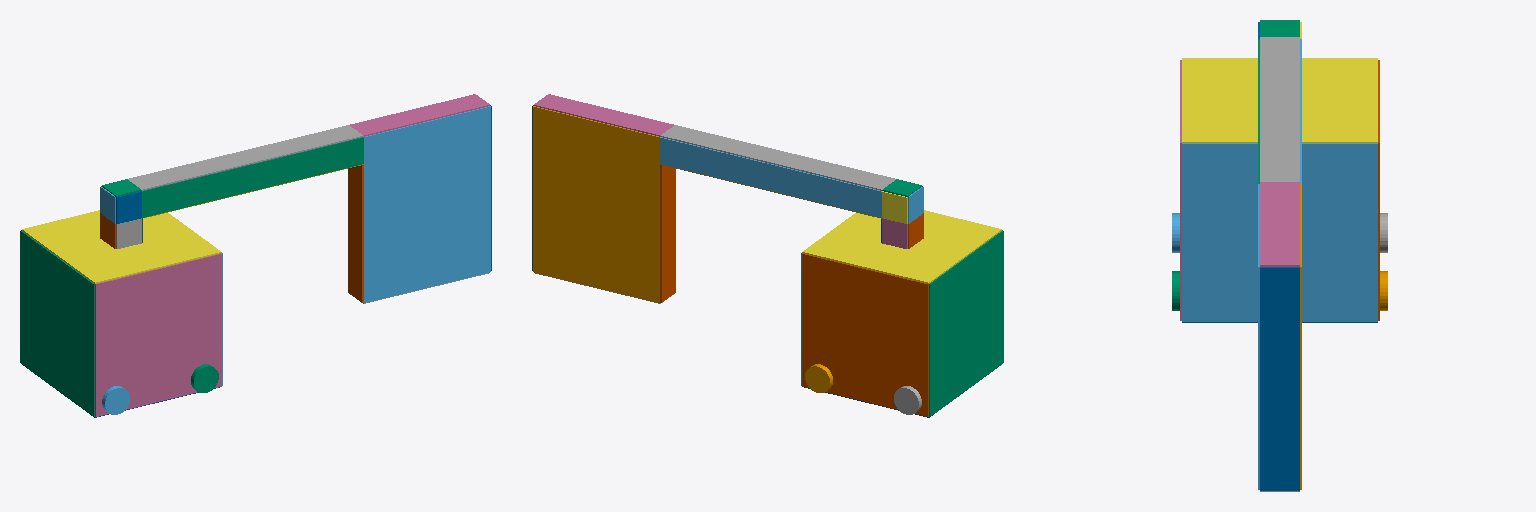
--- Render facts (derived) ---
3 views of the same robot in one strip: view 1: azimuth 30°, elevation 25°; view 2: azimuth 150°, elevation 25°; view 3: azimuth 270°, elevation 25° (orthographic).
Model robot with 56 links and 55 joints (2 continuous, 53 fixed), rooted at body, posed every joint at zero.
Visible links, largest first — view 1: hand_sensor_0_right, body_sensor_0_right, body_sensor_0_stop, body_sensor_0_top, arm_sensor_0_right, arm_sensor_0_top, hand_sensor_0_stop, hand_sensor_0_top, joint_2_sensor_0_right, joint_1_sensor_0_right, back_right_wheel, from_right_wheel; view 2: hand_sensor_0_left, body_sensor_0_left, body_sensor_0_stop, body_sensor_0_top, arm_sensor_0_left, arm_sensor_0_top, hand_sensor_0_stop, hand_sensor_0_top, joint_2_sensor_0_left, joint_1_sensor_0_left, back_left_wheel, from_left_wheel; view 3: body_sensor_0_start, body_sensor_0_top, hand_sensor_0_start, arm_sensor_0_top, hand_sensor_0_top, joint_2_sensor_0_top, hand_sensor_0_left, hand_sensor_0_right.
Boxes of the visible links, <box> form: hand_sensor_0_right: <box>364,106,490,302</box>; body_sensor_0_right: <box>95,253,221,416</box>; body_sensor_0_stop: <box>20,231,94,416</box>; body_sensor_0_top: <box>22,210,221,283</box>; arm_sensor_0_right: <box>142,137,363,217</box>; arm_sensor_0_top: <box>128,125,363,190</box>; hand_sensor_0_stop: <box>348,165,363,302</box>; hand_sensor_0_top: <box>350,94,489,136</box>; joint_2_sensor_0_right: <box>116,191,141,223</box>; joint_1_sensor_0_right: <box>116,218,141,248</box>; back_right_wheel: <box>102,386,129,414</box>; from_right_wheel: <box>191,364,218,392</box>; hand_sensor_0_left: <box>533,106,659,302</box>; body_sensor_0_left: <box>802,253,928,416</box>; body_sensor_0_stop: <box>929,231,1003,416</box>; body_sensor_0_top: <box>802,210,1001,283</box>; arm_sensor_0_left: <box>660,137,881,217</box>; arm_sensor_0_top: <box>660,125,895,190</box>; hand_sensor_0_stop: <box>660,165,675,302</box>; hand_sensor_0_top: <box>534,94,673,136</box>; joint_2_sensor_0_left: <box>882,191,907,223</box>; joint_1_sensor_0_left: <box>882,218,907,248</box>; back_left_wheel: <box>894,386,921,414</box>; from_left_wheel: <box>805,364,832,392</box>; body_sensor_0_start: <box>1182,143,1377,321</box>; body_sensor_0_top: <box>1182,58,1377,142</box>; hand_sensor_0_start: <box>1260,267,1299,490</box>; arm_sensor_0_top: <box>1260,37,1299,181</box>; hand_sensor_0_top: <box>1260,182,1299,266</box>; joint_2_sensor_0_top: <box>1260,20,1299,36</box>; hand_sensor_0_left: <box>1300,184,1301,489</box>; hand_sensor_0_right: <box>1258,184,1259,489</box>.
Size in the robot's own frame: 3.37 by 1.1 by 1.42 metres.
Geometry: primitives only (box / cylinder / sphere), no mesh files.

URDF robot description (robot):
<?xml version="1.0"?>
    <robot name="robot">


    <!-- body -->
    <link name="body">
        <inertial>
            <origin xyz="0 0 0" rpy="0 0 0"/>
            <mass value="100"/>
            <inertia ixx="15" ixy="0" ixz="0" iyy="15" iyz="0" izz="15"/>
        </inertial>
        <visual>
            <origin xyz="0 0 0" rpy="0 0 0"/>
            <geometry>
                <box size="1 1 1"/>
            </geometry>
        </visual>
        <collision>
            <origin xyz="0 0 0" rpy="0 0 0"/>
            <geometry>
                <box size="1 1 1"/>
            </geometry>
        </collision>
    </link>


    <!-- body_sensor_0_start -->
    <link name="body_sensor_0_start">
        <inertial>
            <origin xyz="0 0 0" rpy="0 0 0"/>
            <mass value="0"/>
            <inertia ixx="0" ixy="0" ixz="0" iyy="0" iyz="0" izz="0"/>
        </inertial>
        <visual>
            <origin xyz="0 0 0" rpy="0 0 0"/>
            <geometry>
                <box size="0.02 1 1"/>
            </geometry>
        </visual>
        <collision>
            <origin xyz="0 0 0" rpy="0 0 0"/>
            <geometry>
                <box size="0.02 1 1"/>
            </geometry>
        </collision>
    </link>
    <!-- Joint: body, body_sensor_0_start -->
    <joint name="body_body_sensor_0_start_joint" type="fixed">
        <parent link="body"/>
        <child link="body_sensor_0_start"/>
        <origin xyz="0.5 0 0"
                rpy="0 0 0"/>
        <axis xyz="0 0 1"/>
        
    </joint>


    <!-- body_sensor_0_stop -->
    <link name="body_sensor_0_stop">
        <inertial>
            <origin xyz="0 0 0" rpy="0 0 0"/>
            <mass value="0"/>
            <inertia ixx="0" ixy="0" ixz="0" iyy="0" iyz="0" izz="0"/>
        </inertial>
        <visual>
            <origin xyz="0 0 0" rpy="0 0 0"/>
            <geometry>
                <box size="0.02 1 1"/>
            </geometry>
        </visual>
        <collision>
            <origin xyz="0 0 0" rpy="0 0 0"/>
            <geometry>
                <box size="0.02 1 1"/>
            </geometry>
        </collision>
    </link>
    <!-- Joint: body, body_sensor_0_stop -->
    <joint name="body_body_sensor_0_stop_joint" type="fixed">
        <parent link="body"/>
        <child link="body_sensor_0_stop"/>
        <origin xyz="-0.5 0 0"
                rpy="0 0 0"/>
        <axis xyz="0 0 1"/>
        
    </joint>


    <!-- body_sensor_0_top -->
    <link name="body_sensor_0_top">
        <inertial>
            <origin xyz="0 0 0" rpy="0 0 0"/>
            <mass value="0"/>
            <inertia ixx="0" ixy="0" ixz="0" iyy="0" iyz="0" izz="0"/>
        </inertial>
        <visual>
            <origin xyz="0 0 0" rpy="0 0 0"/>
            <geometry>
                <box size="1.0 1 0.02"/>
            </geometry>
        </visual>
        <collision>
            <origin xyz="0 0 0" rpy="0 0 0"/>
            <geometry>
                <box size="1.0 1 0.02"/>
            </geometry>
        </collision>
    </link>
    <!-- Joint: body, body_sensor_0_top -->
    <joint name="body_body_sensor_0_top_joint" type="fixed">
        <parent link="body"/>
        <child link="body_sensor_0_top"/>
        <origin xyz="0 0 0.5"
                rpy="0 0 0"/>
        <axis xyz="0 0 1"/>
        
    </joint>


    <!-- body_sensor_0_bottom -->
    <link name="body_sensor_0_bottom">
        <inertial>
            <origin xyz="0 0 0" rpy="0 0 0"/>
            <mass value="0"/>
            <inertia ixx="0" ixy="0" ixz="0" iyy="0" iyz="0" izz="0"/>
        </inertial>
        <visual>
            <origin xyz="0 0 0" rpy="0 0 0"/>
            <geometry>
                <box size="1.0 1 0.02"/>
            </geometry>
        </visual>
        <collision>
            <origin xyz="0 0 0" rpy="0 0 0"/>
            <geometry>
                <box size="1.0 1 0.02"/>
            </geometry>
        </collision>
    </link>
    <!-- Joint: body, body_sensor_0_bottom -->
    <joint name="body_body_sensor_0_bottom_joint" type="fixed">
        <parent link="body"/>
        <child link="body_sensor_0_bottom"/>
        <origin xyz="0 0 -0.5"
                rpy="0 0 0"/>
        <axis xyz="0 0 1"/>
        
    </joint>


    <!-- body_sensor_0_left -->
    <link name="body_sensor_0_left">
        <inertial>
            <origin xyz="0 0 0" rpy="0 0 0"/>
            <mass value="0"/>
            <inertia ixx="0" ixy="0" ixz="0" iyy="0" iyz="0" izz="0"/>
        </inertial>
        <visual>
            <origin xyz="0 0 0" rpy="0 0 0"/>
            <geometry>
                <box size="1.0 0.02 1"/>
            </geometry>
        </visual>
        <collision>
            <origin xyz="0 0 0" rpy="0 0 0"/>
            <geometry>
                <box size="1.0 0.02 1"/>
            </geometry>
        </collision>
    </link>
    <!-- Joint: body, body_sensor_0_left -->
    <joint name="body_body_sensor_0_left_joint" type="fixed">
        <parent link="body"/>
        <child link="body_sensor_0_left"/>
        <origin xyz="0 0.5 0"
                rpy="0 0 0"/>
        <axis xyz="0 0 1"/>
        
    </joint>


    <!-- body_sensor_0_right -->
    <link name="body_sensor_0_right">
        <inertial>
            <origin xyz="0 0 0" rpy="0 0 0"/>
            <mass value="0"/>
            <inertia ixx="0" ixy="0" ixz="0" iyy="0" iyz="0" izz="0"/>
        </inertial>
        <visual>
            <origin xyz="0 0 0" rpy="0 0 0"/>
            <geometry>
                <box size="1.0 0.02 1"/>
            </geometry>
        </visual>
        <collision>
            <origin xyz="0 0 0" rpy="0 0 0"/>
            <geometry>
                <box size="1.0 0.02 1"/>
            </geometry>
        </collision>
    </link>
    <!-- Joint: body, body_sensor_0_right -->
    <joint name="body_body_sensor_0_right_joint" type="fixed">
        <parent link="body"/>
        <child link="body_sensor_0_right"/>
        <origin xyz="0 -0.5 0"
                rpy="0 0 0"/>
        <axis xyz="0 0 1"/>
        
    </joint>


    <!-- back_left_wheel -->
    <link name="back_left_wheel">
        <inertial>
            <origin xyz="0 0 0" rpy="0 0 0"/>
            <mass value="0.1"/>
            <inertia ixx="0.0005" ixy="0" ixz="0" iyy="0.0005" iyz="0" izz="0.0005"/>
        </inertial>
        <visual>
            <origin xyz="0 0 0" rpy="0 0 0"/>
            <geometry>
                <cylinder radius="0.1" length="0.1"/>
            </geometry>
        </visual>
        <collision>
            <origin xyz="0 0 0" rpy="0 0 0"/>
            <geometry>
                <cylinder radius="0.1" length="0.1"/>
            </geometry>
        </collision>
    </link>
    <!-- Joint: body, back_left_wheel -->
    <joint name="body_back_left_wheel_joint" type="fixed">
        <parent link="body"/>
        <child link="back_left_wheel"/>
        <origin xyz="-0.35 0.5 -0.4"
                rpy="1.5708 0 0"/>
        <axis xyz="1 0 0"/>
        
    </joint>


    <!-- from_left_wheel -->
    <link name="from_left_wheel">
        <inertial>
            <origin xyz="0 0 0" rpy="0 0 0"/>
            <mass value="0.1"/>
            <inertia ixx="0.0005" ixy="0" ixz="0" iyy="0.0005" iyz="0" izz="0.0005"/>
        </inertial>
        <visual>
            <origin xyz="0 0 0" rpy="0 0 0"/>
            <geometry>
                <cylinder radius="0.1" length="0.1"/>
            </geometry>
        </visual>
        <collision>
            <origin xyz="0 0 0" rpy="0 0 0"/>
            <geometry>
                <cylinder radius="0.1" length="0.1"/>
            </geometry>
        </collision>
    </link>
    <!-- Joint: body, from_left_wheel -->
    <joint name="body_from_left_wheel_joint" type="fixed">
        <parent link="body"/>
        <child link="from_left_wheel"/>
        <origin xyz="0.35 0.5 -0.4"
                rpy="1.5708 0 0"/>
        <axis xyz="1 0 0"/>
        
    </joint>


    <!-- back_right_wheel -->
    <link name="back_right_wheel">
        <inertial>
            <origin xyz="0 0 0" rpy="0 0 0"/>
            <mass value="0.1"/>
            <inertia ixx="0.0005" ixy="0" ixz="0" iyy="0.0005" iyz="0" izz="0.0005"/>
        </inertial>
        <visual>
            <origin xyz="0 0 0" rpy="0 0 0"/>
            <geometry>
                <cylinder radius="0.1" length="0.1"/>
            </geometry>
        </visual>
        <collision>
            <origin xyz="0 0 0" rpy="0 0 0"/>
            <geometry>
                <cylinder radius="0.1" length="0.1"/>
            </geometry>
        </collision>
    </link>
    <!-- Joint: body, back_right_wheel -->
    <joint name="body_back_right_wheel_joint" type="fixed">
        <parent link="body"/>
        <child link="back_right_wheel"/>
        <origin xyz="-0.35 -0.5 -0.4"
                rpy="1.5708 0 0"/>
        <axis xyz="1 0 0"/>
        
    </joint>


    <!-- from_right_wheel -->
    <link name="from_right_wheel">
        <inertial>
            <origin xyz="0 0 0" rpy="0 0 0"/>
            <mass value="0.1"/>
            <inertia ixx="0.0005" ixy="0" ixz="0" iyy="0.0005" iyz="0" izz="0.0005"/>
        </inertial>
        <visual>
            <origin xyz="0 0 0" rpy="0 0 0"/>
            <geometry>
                <cylinder radius="0.1" length="0.1"/>
            </geometry>
        </visual>
        <collision>
            <origin xyz="0 0 0" rpy="0 0 0"/>
            <geometry>
                <cylinder radius="0.1" length="0.1"/>
            </geometry>
        </collision>
    </link>
    <!-- Joint: body, from_right_wheel -->
    <joint name="body_from_right_wheel_joint" type="fixed">
        <parent link="body"/>
        <child link="from_right_wheel"/>
        <origin xyz="0.35 -0.5 -0.4"
                rpy="1.5708 0 0"/>
        <axis xyz="1 0 0"/>
        
    </joint>


    <!-- joint_1 -->
    <link name="joint_1">
        <inertial>
            <origin xyz="0 0 0" rpy="0 0 0"/>
            <mass value="2"/>
            <inertia ixx="0.01" ixy="0" ixz="0" iyy="0.01" iyz="0" izz="0.01"/>
        </inertial>
        <visual>
            <origin xyz="0 0 0" rpy="0 0 0"/>
            <geometry>
                <box size="0.2 0.2 0.2"/>
            </geometry>
        </visual>
        <collision>
            <origin xyz="0 0 0" rpy="0 0 0"/>
            <geometry>
                <box size="0.2 0.2 0.2"/>
            </geometry>
        </collision>
    </link>


    <!-- joint_1_sensor_0_start -->
    <link name="joint_1_sensor_0_start">
        <inertial>
            <origin xyz="0 0 0" rpy="0 0 0"/>
            <mass value="0"/>
            <inertia ixx="0" ixy="0" ixz="0" iyy="0" iyz="0" izz="0"/>
        </inertial>
        <visual>
            <origin xyz="0 0 0" rpy="0 0 0"/>
            <geometry>
                <box size="0.02 0.2 0.2"/>
            </geometry>
        </visual>
        <collision>
            <origin xyz="0 0 0" rpy="0 0 0"/>
            <geometry>
                <box size="0.02 0.2 0.2"/>
            </geometry>
        </collision>
    </link>
    <!-- Joint: joint_1, joint_1_sensor_0_start -->
    <joint name="joint_1_joint_1_sensor_0_start_joint" type="fixed">
        <parent link="joint_1"/>
        <child link="joint_1_sensor_0_start"/>
        <origin xyz="0.1 0 0"
                rpy="0 0 0"/>
        <axis xyz="0 0 1"/>
        
    </joint>


    <!-- joint_1_sensor_0_stop -->
    <link name="joint_1_sensor_0_stop">
        <inertial>
            <origin xyz="0 0 0" rpy="0 0 0"/>
            <mass value="0"/>
            <inertia ixx="0" ixy="0" ixz="0" iyy="0" iyz="0" izz="0"/>
        </inertial>
        <visual>
            <origin xyz="0 0 0" rpy="0 0 0"/>
            <geometry>
                <box size="0.02 0.2 0.2"/>
            </geometry>
        </visual>
        <collision>
            <origin xyz="0 0 0" rpy="0 0 0"/>
            <geometry>
                <box size="0.02 0.2 0.2"/>
            </geometry>
        </collision>
    </link>
    <!-- Joint: joint_1, joint_1_sensor_0_stop -->
    <joint name="joint_1_joint_1_sensor_0_stop_joint" type="fixed">
        <parent link="joint_1"/>
        <child link="joint_1_sensor_0_stop"/>
        <origin xyz="-0.1 0 0"
                rpy="0 0 0"/>
        <axis xyz="0 0 1"/>
        
    </joint>


    <!-- joint_1_sensor_0_left -->
    <link name="joint_1_sensor_0_left">
        <inertial>
            <origin xyz="0 0 0" rpy="0 0 0"/>
            <mass value="0"/>
            <inertia ixx="0" ixy="0" ixz="0" iyy="0" iyz="0" izz="0"/>
        </inertial>
        <visual>
            <origin xyz="0 0 0" rpy="0 0 0"/>
            <geometry>
                <box size="0.2 0.02 0.2"/>
            </geometry>
        </visual>
        <collision>
            <origin xyz="0 0 0" rpy="0 0 0"/>
            <geometry>
                <box size="0.2 0.02 0.2"/>
            </geometry>
        </collision>
    </link>
    <!-- Joint: joint_1, joint_1_sensor_0_left -->
    <joint name="joint_1_joint_1_sensor_0_left_joint" type="fixed">
        <parent link="joint_1"/>
        <child link="joint_1_sensor_0_left"/>
        <origin xyz="0 0.1 0"
                rpy="0 0 0"/>
        <axis xyz="0 0 1"/>
        
    </joint>


    <!-- joint_1_sensor_0_right -->
    <link name="joint_1_sensor_0_right">
        <inertial>
            <origin xyz="0 0 0" rpy="0 0 0"/>
            <mass value="0"/>
            <inertia ixx="0" ixy="0" ixz="0" iyy="0" iyz="0" izz="0"/>
        </inertial>
        <visual>
            <origin xyz="0 0 0" rpy="0 0 0"/>
            <geometry>
                <box size="0.2 0.02 0.2"/>
            </geometry>
        </visual>
        <collision>
            <origin xyz="0 0 0" rpy="0 0 0"/>
            <geometry>
                <box size="0.2 0.02 0.2"/>
            </geometry>
        </collision>
    </link>
    <!-- Joint: joint_1, joint_1_sensor_0_right -->
    <joint name="joint_1_joint_1_sensor_0_right_joint" type="fixed">
        <parent link="joint_1"/>
        <child link="joint_1_sensor_0_right"/>
        <origin xyz="0 -0.1 0"
                rpy="0 0 0"/>
        <axis xyz="0 0 1"/>
        
    </joint>
    <!-- Joint: body, joint_1 -->
    <joint name="body_joint_1_joint" type="continuous">
        <parent link="body"/>
        <child link="joint_1"/>
        <origin xyz="0 0 0.6"
                rpy="0 0 0"/>
        <axis xyz="0 0 1"/>
        <limit lower="-0.7853981633974483" upper="0.7853981633974483" effort="999" velocity="999"/>
    </joint>


    <!-- joint_2 -->
    <link name="joint_2">
        <inertial>
            <origin xyz="0 0 0" rpy="0 0 0"/>
            <mass value="2"/>
            <inertia ixx="0.01" ixy="0" ixz="0" iyy="0.01" iyz="0" izz="0.01"/>
        </inertial>
        <visual>
            <origin xyz="0 0 0" rpy="0 0 0"/>
            <geometry>
                <box size="0.2 0.2 0.2"/>
            </geometry>
        </visual>
        <collision>
            <origin xyz="0 0 0" rpy="0 0 0"/>
            <geometry>
                <box size="0.2 0.2 0.2"/>
            </geometry>
        </collision>
    </link>


    <!-- joint_2_sensor_0_stop -->
    <link name="joint_2_sensor_0_stop">
        <inertial>
            <origin xyz="0 0 0" rpy="0 0 0"/>
            <mass value="0"/>
            <inertia ixx="0" ixy="0" ixz="0" iyy="0" iyz="0" izz="0"/>
        </inertial>
        <visual>
            <origin xyz="0 0 0" rpy="0 0 0"/>
            <geometry>
                <box size="0.02 0.2 0.2"/>
            </geometry>
        </visual>
        <collision>
            <origin xyz="0 0 0" rpy="0 0 0"/>
            <geometry>
                <box size="0.02 0.2 0.2"/>
            </geometry>
        </collision>
    </link>
    <!-- Joint: joint_2, joint_2_sensor_0_stop -->
    <joint name="joint_2_joint_2_sensor_0_stop_joint" type="fixed">
        <parent link="joint_2"/>
        <child link="joint_2_sensor_0_stop"/>
        <origin xyz="-0.1 0 0"
                rpy="0 0 0"/>
        <axis xyz="0 1 0"/>
        
    </joint>


    <!-- joint_2_sensor_0_top -->
    <link name="joint_2_sensor_0_top">
        <inertial>
            <origin xyz="0 0 0" rpy="0 0 0"/>
            <mass value="0"/>
            <inertia ixx="0" ixy="0" ixz="0" iyy="0" iyz="0" izz="0"/>
        </inertial>
        <visual>
            <origin xyz="0 0 0" rpy="0 0 0"/>
            <geometry>
                <box size="0.2 0.2 0.02"/>
            </geometry>
        </visual>
        <collision>
            <origin xyz="0 0 0" rpy="0 0 0"/>
            <geometry>
                <box size="0.2 0.2 0.02"/>
            </geometry>
        </collision>
    </link>
    <!-- Joint: joint_2, joint_2_sensor_0_top -->
    <joint name="joint_2_joint_2_sensor_0_top_joint" type="fixed">
        <parent link="joint_2"/>
        <child link="joint_2_sensor_0_top"/>
        <origin xyz="0 0 0.1"
                rpy="0 0 0"/>
        <axis xyz="0 1 0"/>
        
    </joint>


    <!-- joint_2_sensor_0_left -->
    <link name="joint_2_sensor_0_left">
        <inertial>
            <origin xyz="0 0 0" rpy="0 0 0"/>
            <mass value="0"/>
            <inertia ixx="0" ixy="0" ixz="0" iyy="0" iyz="0" izz="0"/>
        </inertial>
        <visual>
            <origin xyz="0 0 0" rpy="0 0 0"/>
            <geometry>
                <box size="0.2 0.02 0.2"/>
            </geometry>
        </visual>
        <collision>
            <origin xyz="0 0 0" rpy="0 0 0"/>
            <geometry>
                <box size="0.2 0.02 0.2"/>
            </geometry>
        </collision>
    </link>
    <!-- Joint: joint_2, joint_2_sensor_0_left -->
    <joint name="joint_2_joint_2_sensor_0_left_joint" type="fixed">
        <parent link="joint_2"/>
        <child link="joint_2_sensor_0_left"/>
        <origin xyz="0 0.1 0"
                rpy="0 0 0"/>
        <axis xyz="0 1 0"/>
        
    </joint>


    <!-- joint_2_sensor_0_right -->
    <link name="joint_2_sensor_0_right">
        <inertial>
            <origin xyz="0 0 0" rpy="0 0 0"/>
            <mass value="0"/>
            <inertia ixx="0" ixy="0" ixz="0" iyy="0" iyz="0" izz="0"/>
        </inertial>
        <visual>
            <origin xyz="0 0 0" rpy="0 0 0"/>
            <geometry>
                <box size="0.2 0.02 0.2"/>
            </geometry>
        </visual>
        <collision>
            <origin xyz="0 0 0" rpy="0 0 0"/>
            <geometry>
                <box size="0.2 0.02 0.2"/>
            </geometry>
        </collision>
    </link>
    <!-- Joint: joint_2, joint_2_sensor_0_right -->
    <joint name="joint_2_joint_2_sensor_0_right_joint" type="fixed">
        <parent link="joint_2"/>
        <child link="joint_2_sensor_0_right"/>
        <origin xyz="0 -0.1 0"
                rpy="0 0 0"/>
        <axis xyz="0 1 0"/>
        
    </joint>
    <!-- Joint: joint_1, joint_2 -->
    <joint name="joint_1_joint_2_joint" type="continuous">
        <parent link="joint_1"/>
        <child link="joint_2"/>
        <origin xyz="0 0 0.2"
                rpy="0 0 0"/>
        <axis xyz="0 1 0"/>
        <limit lower="-1.5707963267948966" upper="0" effort="999" velocity="999"/>
    </joint>


    <!-- arm -->
    <link name="arm">
        <inertial>
            <origin xyz="0 0 0" rpy="0 0 0"/>
            <mass value="2"/>
            <inertia ixx="0.01" ixy="0" ixz="0" iyy="1.25" iyz="0" izz="1.25"/>
        </inertial>
        <visual>
            <origin xyz="0 0 0" rpy="0 0 0"/>
            <geometry>
                <box size="1.75 0.2 0.2"/>
            </geometry>
        </visual>
        <collision>
            <origin xyz="0 0 0" rpy="0 0 0"/>
            <geometry>
                <box size="1.75 0.2 0.2"/>
            </geometry>
        </collision>
    </link>


    <!-- arm_sensor_0_start -->
    <link name="arm_sensor_0_start">
        <inertial>
            <origin xyz="0 0 0" rpy="0 0 0"/>
            <mass value="0"/>
            <inertia ixx="0" ixy="0" ixz="0" iyy="0" iyz="0" izz="0"/>
        </inertial>
        <visual>
            <origin xyz="0 0 0" rpy="0 0 0"/>
            <geometry>
                <box size="0.02 0.2 0.2"/>
            </geometry>
        </visual>
        <collision>
            <origin xyz="0 0 0" rpy="0 0 0"/>
            <geometry>
                <box size="0.02 0.2 0.2"/>
            </geometry>
        </collision>
    </link>
    <!-- Joint: arm, arm_sensor_0_start -->
    <joint name="arm_arm_sensor_0_start_joint" type="fixed">
        <parent link="arm"/>
        <child link="arm_sensor_0_start"/>
        <origin xyz="0.875 0 0"
                rpy="0 0 0"/>
        <axis xyz="0 1 0"/>
        
    </joint>


    <!-- arm_sensor_0_top -->
    <link name="arm_sensor_0_top">
        <inertial>
            <origin xyz="0 0 0" rpy="0 0 0"/>
            <mass value="0"/>
            <inertia ixx="0" ixy="0" ixz="0" iyy="0" iyz="0" izz="0"/>
        </inertial>
        <visual>
            <origin xyz="0 0 0" rpy="0 0 0"/>
            <geometry>
                <box size="1.75 0.2 0.02"/>
            </geometry>
        </visual>
        <collision>
            <origin xyz="0 0 0" rpy="0 0 0"/>
            <geometry>
                <box size="1.75 0.2 0.02"/>
            </geometry>
        </collision>
    </link>
    <!-- Joint: arm, arm_sensor_0_top -->
    <joint name="arm_arm_sensor_0_top_joint" type="fixed">
        <parent link="arm"/>
        <child link="arm_sensor_0_top"/>
        <origin xyz="0 0 0.1"
                rpy="0 0 0"/>
        <axis xyz="0 1 0"/>
        
    </joint>


    <!-- arm_sensor_0_bottom -->
    <link name="arm_sensor_0_bottom">
        <inertial>
            <origin xyz="0 0 0" rpy="0 0 0"/>
            <mass value="0"/>
            <inertia ixx="0" ixy="0" ixz="0" iyy="0" iyz="0" izz="0"/>
        </inertial>
        <visual>
            <origin xyz="0 0 0" rpy="0 0 0"/>
            <geometry>
                <box size="1.75 0.2 0.02"/>
            </geometry>
        </visual>
        <collision>
            <origin xyz="0 0 0" rpy="0 0 0"/>
            <geometry>
                <box size="1.75 0.2 0.02"/>
            </geometry>
        </collision>
    </link>
    <!-- Joint: arm, arm_sensor_0_bottom -->
    <joint name="arm_arm_sensor_0_bottom_joint" type="fixed">
        <parent link="arm"/>
        <child link="arm_sensor_0_bottom"/>
        <origin xyz="0 0 -0.1"
                rpy="0 0 0"/>
        <axis xyz="0 1 0"/>
        
    </joint>


    <!-- arm_sensor_0_left -->
    <link name="arm_sensor_0_left">
        <inertial>
            <origin xyz="0 0 0" rpy="0 0 0"/>
            <mass value="0"/>
            <inertia ixx="0" ixy="0" ixz="0" iyy="0" iyz="0" izz="0"/>
        </inertial>
        <visual>
            <origin xyz="0 0 0" rpy="0 0 0"/>
            <geometry>
                <box size="1.75 0.02 0.2"/>
            </geometry>
        </visual>
        <collision>
            <origin xyz="0 0 0" rpy="0 0 0"/>
            <geometry>
                <box size="1.75 0.02 0.2"/>
            </geometry>
        </collision>
    </link>
    <!-- Joint: arm, arm_sensor_0_left -->
    <joint name="arm_arm_sensor_0_left_joint" type="fixed">
        <parent link="arm"/>
        <child link="arm_sensor_0_left"/>
        <origin xyz="0 0.1 0"
                rpy="0 0 0"/>
        <axis xyz="0 1 0"/>
        
    </joint>


    <!-- arm_sensor_0_right -->
    <link name="arm_sensor_0_right">
        <inertial>
            <origin xyz="0 0 0" rpy="0 0 0"/>
            <mass value="0"/>
            <inertia ixx="0" ixy="0" ixz="0" iyy="0" iyz="0" izz="0"/>
        </inertial>
        <visual>
            <origin xyz="0 0 0" rpy="0 0 0"/>
            <geometry>
                <box size="1.75 0.02 0.2"/>
            </geometry>
        </visual>
        <collision>
            <origin xyz="0 0 0" rpy="0 0 0"/>
            <geometry>
                <box size="1.75 0.02 0.2"/>
            </geometry>
        </collision>
    </link>
    <!-- Joint: arm, arm_sensor_0_right -->
    <joint name="arm_arm_sensor_0_right_joint" type="fixed">
        <parent link="arm"/>
        <child link="arm_sensor_0_right"/>
        <origin xyz="0 -0.1 0"
                rpy="0 0 0"/>
        <axis xyz="0 1 0"/>
        
    </joint>
    <!-- Joint: joint_2, arm -->
    <joint name="joint_2_arm_joint" type="fixed">
        <parent link="joint_2"/>
        <child link="arm"/>
        <origin xyz="0.975 0 0"
                rpy="0 0 0"/>
        <axis xyz="0 1 0"/>
        
    </joint>


    <!-- hand -->
    <link name="hand">
        <inertial>
            <origin xyz="0 0 0" rpy="0 0 0"/>
            <mass value="2"/>
            <inertia ixx="0.05" ixy="0.05" ixz="0.05" iyy="0.05" iyz="0.05" izz="0.05"/>
        </inertial>
        <visual>
            <origin xyz="0 0 0" rpy="0 0 0"/>
            <geometry>
                <box size="1 0.2 1.25"/>
            </geometry>
        </visual>
        <collision>
            <origin xyz="0 0 0" rpy="0 0 0"/>
            <geometry>
                <box size="1 0.2 1.25"/>
            </geometry>
        </collision>
    </link>


    <!-- hand_sensor_0_start -->
    <link name="hand_sensor_0_start">
        <inertial>
            <origin xyz="0 0 0" rpy="0 0 0"/>
            <mass value="0"/>
            <inertia ixx="0" ixy="0" ixz="0" iyy="0" iyz="0" izz="0"/>
        </inertial>
        <visual>
            <origin xyz="0 0 0" rpy="0 0 0"/>
            <geometry>
                <box size="0.02 0.2 1.25"/>
            </geometry>
        </visual>
        <collision>
            <origin xyz="0 0 0" rpy="0 0 0"/>
            <geometry>
                <box size="0.02 0.2 1.25"/>
            </geometry>
        </collision>
    </link>
    <!-- Joint: hand, hand_sensor_0_start -->
    <joint name="hand_hand_sensor_0_start_joint" type="fixed">
        <parent link="hand"/>
        <child link="hand_sensor_0_start"/>
        <origin xyz="0.5 0 0"
                rpy="0 0 0"/>
        <axis xyz="0 1 0"/>
        
    </joint>


    <!-- hand_sensor_0_stop -->
    <link name="hand_sensor_0_stop">
        <inertial>
            <origin xyz="0 0 0" rpy="0 0 0"/>
            <mass value="0"/>
            <inertia ixx="0" ixy="0" ixz="0" iyy="0" iyz="0" izz="0"/>
        </inertial>
        <visual>
            <origin xyz="0 0 0" rpy="0 0 0"/>
            <geometry>
                <box size="0.02 0.2 1.25"/>
            </geometry>
        </visual>
        <collision>
            <origin xyz="0 0 0" rpy="0 0 0"/>
            <geometry>
                <box size="0.02 0.2 1.25"/>
            </geometry>
        </collision>
    </link>
    <!-- Joint: hand, hand_sensor_0_stop -->
    <joint name="hand_hand_sensor_0_stop_joint" type="fixed">
        <parent link="hand"/>
        <child link="hand_sensor_0_stop"/>
        <origin xyz="-0.5 0 0"
                rpy="0 0 0"/>
        <axis xyz="0 1 0"/>
        
    </joint>


    <!-- hand_sensor_0_top -->
    <link name="hand_sensor_0_top">
        <inertial>
            <origin xyz="0 0 0" rpy="0 0 0"/>
            <mass value="0"/>
            <inertia ixx="0" ixy="0" ixz="0" iyy="0" iyz="0" izz="0"/>
        </inertial>
        <visual>
            <origin xyz="0 0 0" rpy="0 0 0"/>
            <geometry>
                <box size="1.0 0.2 0.02"/>
            </geometry>
        </visual>
        <collision>
            <origin xyz="0 0 0" rpy="0 0 0"/>
            <geometry>
                <box size="1.0 0.2 0.02"/>
            </geometry>
        </collision>
    </link>
    <!-- Joint: hand, hand_sensor_0_top -->
    <joint name="hand_hand_sensor_0_top_joint" type="fixed">
        <parent link="hand"/>
        <child link="hand_sensor_0_top"/>
        <origin xyz="0 0 0.625"
                rpy="0 0 0"/>
        <axis xyz="0 1 0"/>
        
    </joint>


    <!-- hand_sensor_0_bottom -->
    <link name="hand_sensor_0_bottom">
        <inertial>
            <origin xyz="0 0 0" rpy="0 0 0"/>
            <mass value="0"/>
            <inertia ixx="0" ixy="0" ixz="0" iyy="0" iyz="0" izz="0"/>
        </inertial>
        <visual>
            <origin xyz="0 0 0" rpy="0 0 0"/>
            <geometry>
                <box size="1.0 0.2 0.02"/>
            </geometry>
        </visual>
        <collision>
            <origin xyz="0 0 0" rpy="0 0 0"/>
            <geometry>
                <box size="1.0 0.2 0.02"/>
            </geometry>
        </collision>
    </link>
    <!-- Joint: hand, hand_sensor_0_bottom -->
    <joint name="hand_hand_sensor_0_bottom_joint" type="fixed">
        <parent link="hand"/>
        <child link="hand_sensor_0_bottom"/>
        <origin xyz="0 0 -0.625"
                rpy="0 0 0"/>
        <axis xyz="0 1 0"/>
        
    </joint>


    <!-- hand_sensor_0_left -->
    <link name="hand_sensor_0_left">
        <inertial>
            <origin xyz="0 0 0" rpy="0 0 0"/>
            <mass value="0"/>
            <inertia ixx="0" ixy="0" ixz="0" iyy="0" iyz="0" izz="0"/>
        </inertial>
        <visual>
            <origin xyz="0 0 0" rpy="0 0 0"/>
            <geometry>
                <box size="1.0 0.02 1.25"/>
            </geometry>
        </visual>
        <collision>
            <origin xyz="0 0 0" rpy="0 0 0"/>
            <geometry>
                <box size="1.0 0.02 1.25"/>
            </geometry>
        </collision>
    </link>
    <!-- Joint: hand, hand_sensor_0_left -->
    <joint name="hand_hand_sensor_0_left_joint" type="fixed">
        <parent link="hand"/>
        <child link="hand_sensor_0_left"/>
        <origin xyz="0 0.1 0"
                rpy="0 0 0"/>
        <axis xyz="0 1 0"/>
        
    </joint>


    <!-- hand_sensor_0_right -->
    <link name="hand_sensor_0_right">
        <inertial>
            <origin xyz="0 0 0" rpy="0 0 0"/>
            <mass value="0"/>
            <inertia ixx="0" ixy="0" ixz="0" iyy="0" iyz="0" izz="0"/>
        </inertial>
        <visual>
            <origin xyz="0 0 0" rpy="0 0 0"/>
            <geometry>
                <box size="1.0 0.02 1.25"/>
            </geometry>
        </visual>
        <collision>
            <origin xyz="0 0 0" rpy="0 0 0"/>
            <geometry>
                <box size="1.0 0.02 1.25"/>
            </geometry>
        </collision>
    </link>
    <!-- Joint: hand, hand_sensor_0_right -->
    <joint name="hand_hand_sensor_0_right_joint" type="fixed">
        <parent link="hand"/>
        <child link="hand_sensor_0_right"/>
        <origin xyz="0 -0.1 0"
                rpy="0 0 0"/>
        <axis xyz="0 1 0"/>
        
    </joint>
    <!-- Joint: arm, hand -->
    <joint name="arm_hand_joint" type="fixed">
        <parent link="arm"/>
        <child link="hand"/>
        <origin xyz="1.375 0 -0.525"
                rpy="0 0 0"/>
        <axis xyz="0 1 0"/>
        
    </joint>


    <!-- body_face_front_0 -->
    <link name="body_face_front_0">
        <inertial>
            <origin xyz="0 0 0" rpy="0 0 0"/>
            <mass value="0"/>
            <inertia ixx="0.05" ixy="0.05" ixz="0.05" iyy="0.05" iyz="0.05" izz="0.05"/>
        </inertial>
        <visual>
            <origin xyz="0 0 0" rpy="0 0 0"/>
            <geometry>
                <box size="0.002 0.1111111111111111 0.1111111111111111"/>
            </geometry>
        </visual>
        <collision>
            <origin xyz="0 0 0" rpy="0 0 0"/>
            <geometry>
                <box size="0.002 0.1111111111111111 0.1111111111111111"/>
            </geometry>
        </collision>
    </link>
    <!-- Joint: body, body_face_front_0 -->
    <joint name="body_body_face_front_0_joint" type="fixed">
        <parent link="body"/>
        <child link="body_face_front_0"/>
        <origin xyz="0.501 -0.33333333333333337 0.11111111111111116"
                rpy="0 0 0"/>
        <axis xyz="0 0 1"/>
        
    </joint>


    <!-- body_face_front_1 -->
    <link name="body_face_front_1">
        <inertial>
            <origin xyz="0 0 0" rpy="0 0 0"/>
            <mass value="0"/>
            <inertia ixx="0.05" ixy="0.05" ixz="0.05" iyy="0.05" iyz="0.05" izz="0.05"/>
        </inertial>
        <visual>
            <origin xyz="0 0 0" rpy="0 0 0"/>
            <geometry>
                <box size="0.002 0.1111111111111111 0.1111111111111111"/>
            </geometry>
        </visual>
        <collision>
            <origin xyz="0 0 0" rpy="0 0 0"/>
            <geometry>
                <box size="0.002 0.1111111111111111 0.1111111111111111"/>
            </geometry>
        </collision>
    </link>
    <!-- Joint: body, body_face_front_1 -->
    <joint name="body_body_face_front_1_joint" type="fixed">
        <parent link="body"/>
        <child link="body_face_front_1"/>
        <origin xyz="0.501 -0.2222222222222222 0.2222222222222222"
                rpy="0 0 0"/>
        <axis xyz="0 0 1"/>
        
    </joint>


    <!-- body_face_front_2 -->
    <link name="body_face_front_2">
        <inertial>
            <origin xyz="0 0 0" rpy="0 0 0"/>
            <mass value="0"/>
            <inertia ixx="0.05" ixy="0.05" ixz="0.05" iyy="0.05" iyz="0.05" izz="0.05"/>
        </inertial>
        <visual>
            <origin xyz="0 0 0" rpy="0 0 0"/>
            <geometry>
                <box size="0.002 0.1111111111111111 0.1111111111111111"/>
            </geometry>
        </visual>
        <collision>
            <origin xyz="0 0 0" rpy="0 0 0"/>
            <geometry>
                <box size="0.002 0.1111111111111111 0.1111111111111111"/>
            </geometry>
        </collision>
    </link>
    <!-- Joint: body, body_face_front_2 -->
    <joint name="body_body_face_front_2_joint" type="fixed">
        <parent link="body"/>
        <child link="body_face_front_2"/>
        <origin xyz="0.501 -0.1111111111111111 0.11111111111111116"
                rpy="0 0 0"/>
        <axis xyz="0 0 1"/>
        
    </joint>


    <!-- body_face_front_3 -->
    <link name="body_face_front_3">
        <inertial>
            <origin xyz="0 0 0" rpy="0 0 0"/>
            <mass value="0"/>
            <inertia ixx="0.05" ixy="0.05" ixz="0.05" iyy="0.05" iyz="0.05" izz="0.05"/>
        </inertial>
        <visual>
            <origin xyz="0 0 0" rpy="0 0 0"/>
            <geometry>
                <box size="0.002 0.1111111111111111 0.1111111111111111"/>
            </geometry>
        </visual>
        <collision>
            <origin xyz="0 0 0" rpy="0 0 0"/>
            <geometry>
                <box size="0.002 0.1111111111111111 0.1111111111111111"/>
            </geometry>
        </collision>
    </link>
    <!-- Joint: body, body_face_front_3 -->
    <joint name="body_body_face_front_3_joint" type="fixed">
        <parent link="body"/>
        <child link="body_face_front_3"/>
        <origin xyz="0.501 -0.1111111111111111 -0.2222222222222222"
                rpy="0 0 0"/>
        <axis xyz="0 0 1"/>
        
    </joint>


    <!-- body_face_front_4 -->
    <link name="body_face_front_4">
        <inertial>
            <origin xyz="0 0 0" rpy="0 0 0"/>
            <mass value="0"/>
            <inertia ixx="0.05" ixy="0.05" ixz="0.05" iyy="0.05" iyz="0.05" izz="0.05"/>
        </inertial>
        <visual>
            <origin xyz="0 0 0" rpy="0 0 0"/>
            <geometry>
                <box size="0.002 0.1111111111111111 0.1111111111111111"/>
            </geometry>
        </visual>
        <collision>
            <origin xyz="0 0 0" rpy="0 0 0"/>
            <geometry>
                <box size="0.002 0.1111111111111111 0.1111111111111111"/>
            </geometry>
        </collision>
    </link>
    <!-- Joint: body, body_face_front_4 -->
    <joint name="body_body_face_front_4_joint" type="fixed">
        <parent link="body"/>
        <child link="body_face_front_4"/>
        <origin xyz="0.501 0.0 -0.2222222222222222"
                rpy="0 0 0"/>
        <axis xyz="0 0 1"/>
        
    </joint>


    <!-- body_face_front_5 -->
    <link name="body_face_front_5">
        <inertial>
            <origin xyz="0 0 0" rpy="0 0 0"/>
            <mass value="0"/>
            <inertia ixx="0.05" ixy="0.05" ixz="0.05" iyy="0.05" iyz="0.05" izz="0.05"/>
        </inertial>
        <visual>
            <origin xyz="0 0 0" rpy="0 0 0"/>
            <geometry>
                <box size="0.002 0.1111111111111111 0.1111111111111111"/>
            </geometry>
        </visual>
        <collision>
            <origin xyz="0 0 0" rpy="0 0 0"/>
            <geometry>
                <box size="0.002 0.1111111111111111 0.1111111111111111"/>
            </geometry>
        </collision>
    </link>
    <!-- Joint: body, body_face_front_5 -->
    <joint name="body_body_face_front_5_joint" type="fixed">
        <parent link="body"/>
        <child link="body_face_front_5"/>
        <origin xyz="0.501 0.11111111111111116 0.11111111111111116"
                rpy="0 0 0"/>
        <axis xyz="0 0 1"/>
        
    </joint>


    <!-- body_face_front_6 -->
    <link name="body_face_front_6">
        <inertial>
            <origin xyz="0 0 0" rpy="0 0 0"/>
            <mass value="0"/>
            <inertia ixx="0.05" ixy="0.05" ixz="0.05" iyy="0.05" iyz="0.05" izz="0.05"/>
        </inertial>
        <visual>
            <origin xyz="0 0 0" rpy="0 0 0"/>
            <geometry>
                <box size="0.002 0.1111111111111111 0.1111111111111111"/>
            </geometry>
        </visual>
        <collision>
            <origin xyz="0 0 0" rpy="0 0 0"/>
            <geometry>
                <box size="0.002 0.1111111111111111 0.1111111111111111"/>
            </geometry>
        </collision>
    </link>
    <!-- Joint: body, body_face_front_6 -->
    <joint name="body_body_face_front_6_joint" type="fixed">
        <parent link="body"/>
        <child link="body_face_front_6"/>
        <origin xyz="0.501 0.11111111111111116 -0.2222222222222222"
                rpy="0 0 0"/>
        <axis xyz="0 0 1"/>
        
    </joint>


    <!-- body_face_front_7 -->
    <link name="body_face_front_7">
        <inertial>
            <origin xyz="0 0 0" rpy="0 0 0"/>
            <mass value="0"/>
            <inertia ixx="0.05" ixy="0.05" ixz="0.05" iyy="0.05" iyz="0.05" izz="0.05"/>
        </inertial>
        <visual>
            <origin xyz="0 0 0" rpy="0 0 0"/>
            <geometry>
                <box size="0.002 0.1111111111111111 0.1111111111111111"/>
            </geometry>
        </visual>
        <collision>
            <origin xyz="0 0 0" rpy="0 0 0"/>
            <geometry>
                <box size="0.002 0.1111111111111111 0.1111111111111111"/>
            </geometry>
        </collision>
    </link>
    <!-- Joint: body, body_face_front_7 -->
    <joint name="body_body_face_front_7_joint" type="fixed">
        <parent link="body"/>
        <child link="body_face_front_7"/>
        <origin xyz="0.501 0.2222222222222222 0.2222222222222222"
                rpy="0 0 0"/>
        <axis xyz="0 0 1"/>
        
    </joint>


    <!-- body_face_front_8 -->
    <link name="body_face_front_8">
        <inertial>
            <origin xyz="0 0 0" rpy="0 0 0"/>
            <mass value="0"/>
            <inertia ixx="0.05" ixy="0.05" ixz="0.05" iyy="0.05" iyz="0.05" izz="0.05"/>
        </inertial>
        <visual>
            <origin xyz="0 0 0" rpy="0 0 0"/>
            <geometry>
                <box size="0.002 0.1111111111111111 0.1111111111111111"/>
            </geometry>
        </visual>
        <collision>
            <origin xyz="0 0 0" rpy="0 0 0"/>
            <geometry>
                <box size="0.002 0.1111111111111111 0.1111111111111111"/>
            </geometry>
        </collision>
    </link>
    <!-- Joint: body, body_face_front_8 -->
    <joint name="body_body_face_front_8_joint" type="fixed">
        <parent link="body"/>
        <child link="body_face_front_8"/>
        <origin xyz="0.501 0.33333333333333337 0.11111111111111116"
                rpy="0 0 0"/>
        <axis xyz="0 0 1"/>
        
    </joint>


    <!-- body_face_top_0 -->
    <link name="body_face_top_0">
        <inertial>
            <origin xyz="0 0 0" rpy="0 0 0"/>
            <mass value="0"/>
            <inertia ixx="0.05" ixy="0.05" ixz="0.05" iyy="0.05" iyz="0.05" izz="0.05"/>
        </inertial>
        <visual>
            <origin xyz="0 0 0" rpy="0 0 0"/>
            <geometry>
                <box size="0.1111111111111111 0.1111111111111111 0.002"/>
            </geometry>
        </visual>
        <collision>
            <origin xyz="0 0 0" rpy="0 0 0"/>
            <geometry>
                <box size="0.1111111111111111 0.1111111111111111 0.002"/>
            </geometry>
        </collision>
    </link>
    <!-- Joint: body, body_face_top_0 -->
    <joint name="body_body_face_top_0_joint" type="fixed">
        <parent link="body"/>
        <child link="body_face_top_0"/>
        <origin xyz="0.11111111111111116 -0.2222222222222222 0.501"
                rpy="0 0 0"/>
        <axis xyz="0 0 1"/>
        
    </joint>


    <!-- body_face_top_1 -->
    <link name="body_face_top_1">
        <inertial>
            <origin xyz="0 0 0" rpy="0 0 0"/>
            <mass value="0"/>
            <inertia ixx="0.05" ixy="0.05" ixz="0.05" iyy="0.05" iyz="0.05" izz="0.05"/>
        </inertial>
        <visual>
            <origin xyz="0 0 0" rpy="0 0 0"/>
            <geometry>
                <box size="0.1111111111111111 0.1111111111111111 0.002"/>
            </geometry>
        </visual>
        <collision>
            <origin xyz="0 0 0" rpy="0 0 0"/>
            <geometry>
                <box size="0.1111111111111111 0.1111111111111111 0.002"/>
            </geometry>
        </collision>
    </link>
    <!-- Joint: body, body_face_top_1 -->
    <joint name="body_body_face_top_1_joint" type="fixed">
        <parent link="body"/>
        <child link="body_face_top_1"/>
        <origin xyz="0.11111111111111116 -0.1111111111111111 0.501"
                rpy="0 0 0"/>
        <axis xyz="0 0 1"/>
        
    </joint>


    <!-- body_face_top_2 -->
    <link name="body_face_top_2">
        <inertial>
            <origin xyz="0 0 0" rpy="0 0 0"/>
            <mass value="0"/>
            <inertia ixx="0.05" ixy="0.05" ixz="0.05" iyy="0.05" iyz="0.05" izz="0.05"/>
        </inertial>
        <visual>
            <origin xyz="0 0 0" rpy="0 0 0"/>
            <geometry>
                <box size="0.1111111111111111 0.1111111111111111 0.002"/>
            </geometry>
        </visual>
        <collision>
            <origin xyz="0 0 0" rpy="0 0 0"/>
            <geometry>
                <box size="0.1111111111111111 0.1111111111111111 0.002"/>
            </geometry>
        </collision>
    </link>
    <!-- Joint: body, body_face_top_2 -->
    <joint name="body_body_face_top_2_joint" type="fixed">
        <parent link="body"/>
        <child link="body_face_top_2"/>
        <origin xyz="0.2222222222222222 -0.1111111111111111 0.501"
                rpy="0 0 0"/>
        <axis xyz="0 0 1"/>
        
    </joint>


    <!-- body_face_top_3 -->
    <link name="body_face_top_3">
        <inertial>
            <origin xyz="0 0 0" rpy="0 0 0"/>
            <mass value="0"/>
            <inertia ixx="0.05" ixy="0.05" ixz="0.05" iyy="0.05" iyz="0.05" izz="0.05"/>
        </inertial>
        <visual>
            <origin xyz="0 0 0" rpy="0 0 0"/>
            <geometry>
                <box size="0.1111111111111111 0.1111111111111111 0.002"/>
            </geometry>
        </visual>
        <collision>
            <origin xyz="0 0 0" rpy="0 0 0"/>
            <geometry>
                <box size="0.1111111111111111 0.1111111111111111 0.002"/>
            </geometry>
        </collision>
    </link>
    <!-- Joint: body, body_face_top_3 -->
    <joint name="body_body_face_top_3_joint" type="fixed">
        <parent link="body"/>
        <child link="body_face_top_3"/>
        <origin xyz="-0.33333333333333337 0.0 0.501"
                rpy="0 0 0"/>
        <axis xyz="0 0 1"/>
        
    </joint>


    <!-- body_face_top_4 -->
    <link name="body_face_top_4">
        <inertial>
            <origin xyz="0 0 0" rpy="0 0 0"/>
            <mass value="0"/>
            <inertia ixx="0.05" ixy="0.05" ixz="0.05" iyy="0.05" iyz="0.05" izz="0.05"/>
        </inertial>
        <visual>
            <origin xyz="0 0 0" rpy="0 0 0"/>
            <geometry>
                <box size="0.1111111111111111 0.1111111111111111 0.002"/>
            </geometry>
        </visual>
        <collision>
            <origin xyz="0 0 0" rpy="0 0 0"/>
            <geometry>
                <box size="0.1111111111111111 0.1111111111111111 0.002"/>
            </geometry>
        </collision>
    </link>
    <!-- Joint: body, body_face_top_4 -->
    <joint name="body_body_face_top_4_joint" type="fixed">
        <parent link="body"/>
        <child link="body_face_top_4"/>
        <origin xyz="-0.2222222222222222 0.0 0.501"
                rpy="0 0 0"/>
        <axis xyz="0 0 1"/>
        
    </joint>


    <!-- body_face_top_5 -->
    <link name="body_face_top_5">
        <inertial>
            <origin xyz="0 0 0" rpy="0 0 0"/>
            <mass value="0"/>
            <inertia ixx="0.05" ixy="0.05" ixz="0.05" iyy="0.05" iyz="0.05" izz="0.05"/>
        </inertial>
        <visual>
            <origin xyz="0 0 0" rpy="0 0 0"/>
            <geometry>
                <box size="0.1111111111111111 0.1111111111111111 0.002"/>
            </geometry>
        </visual>
        <collision>
            <origin xyz="0 0 0" rpy="0 0 0"/>
            <geometry>
                <box size="0.1111111111111111 0.1111111111111111 0.002"/>
            </geometry>
        </collision>
    </link>
    <!-- Joint: body, body_face_top_5 -->
    <joint name="body_body_face_top_5_joint" type="fixed">
        <parent link="body"/>
        <child link="body_face_top_5"/>
        <origin xyz="-0.1111111111111111 0.0 0.501"
                rpy="0 0 0"/>
        <axis xyz="0 0 1"/>
        
    </joint>


    <!-- body_face_top_6 -->
    <link name="body_face_top_6">
        <inertial>
            <origin xyz="0 0 0" rpy="0 0 0"/>
            <mass value="0"/>
            <inertia ixx="0.05" ixy="0.05" ixz="0.05" iyy="0.05" iyz="0.05" izz="0.05"/>
        </inertial>
        <visual>
            <origin xyz="0 0 0" rpy="0 0 0"/>
            <geometry>
                <box size="0.1111111111111111 0.1111111111111111 0.002"/>
            </geometry>
        </visual>
        <collision>
            <origin xyz="0 0 0" rpy="0 0 0"/>
            <geometry>
                <box size="0.1111111111111111 0.1111111111111111 0.002"/>
            </geometry>
        </collision>
    </link>
    <!-- Joint: body, body_face_top_6 -->
    <joint name="body_body_face_top_6_joint" type="fixed">
        <parent link="body"/>
        <child link="body_face_top_6"/>
        <origin xyz="0.0 0.0 0.501"
                rpy="0 0 0"/>
        <axis xyz="0 0 1"/>
        
    </joint>


    <!-- body_face_top_7 -->
    <link name="body_face_top_7">
        <inertial>
            <origin xyz="0 0 0" rpy="0 0 0"/>
            <mass value="0"/>
            <inertia ixx="0.05" ixy="0.05" ixz="0.05" iyy="0.05" iyz="0.05" izz="0.05"/>
        </inertial>
        <visual>
            <origin xyz="0 0 0" rpy="0 0 0"/>
            <geometry>
                <box size="0.1111111111111111 0.1111111111111111 0.002"/>
            </geometry>
        </visual>
        <collision>
            <origin xyz="0 0 0" rpy="0 0 0"/>
            <geometry>
                <box size="0.1111111111111111 0.1111111111111111 0.002"/>
            </geometry>
        </collision>
    </link>
    <!-- Joint: body, body_face_top_7 -->
    <joint name="body_body_face_top_7_joint" type="fixed">
        <parent link="body"/>
        <child link="body_face_top_7"/>
        <origin xyz="0.11111111111111116 0.0 0.501"
                rpy="0 0 0"/>
        <axis xyz="0 0 1"/>
        
    </joint>


    <!-- body_face_top_8 -->
    <link name="body_face_top_8">
        <inertial>
            <origin xyz="0 0 0" rpy="0 0 0"/>
            <mass value="0"/>
            <inertia ixx="0.05" ixy="0.05" ixz="0.05" iyy="0.05" iyz="0.05" izz="0.05"/>
        </inertial>
        <visual>
            <origin xyz="0 0 0" rpy="0 0 0"/>
            <geometry>
                <box size="0.1111111111111111 0.1111111111111111 0.002"/>
            </geometry>
        </visual>
        <collision>
            <origin xyz="0 0 0" rpy="0 0 0"/>
            <geometry>
                <box size="0.1111111111111111 0.1111111111111111 0.002"/>
            </geometry>
        </collision>
    </link>
    <!-- Joint: body, body_face_top_8 -->
    <joint name="body_body_face_top_8_joint" type="fixed">
        <parent link="body"/>
        <child link="body_face_top_8"/>
        <origin xyz="0.2222222222222222 0.0 0.501"
                rpy="0 0 0"/>
        <axis xyz="0 0 1"/>
        
    </joint>


    <!-- body_face_top_9 -->
    <link name="body_face_top_9">
        <inertial>
            <origin xyz="0 0 0" rpy="0 0 0"/>
            <mass value="0"/>
            <inertia ixx="0.05" ixy="0.05" ixz="0.05" iyy="0.05" iyz="0.05" izz="0.05"/>
        </inertial>
        <visual>
            <origin xyz="0 0 0" rpy="0 0 0"/>
            <geometry>
                <box size="0.1111111111111111 0.1111111111111111 0.002"/>
            </geometry>
        </visual>
        <collision>
            <origin xyz="0 0 0" rpy="0 0 0"/>
            <geometry>
                <box size="0.1111111111111111 0.1111111111111111 0.002"/>
            </geometry>
        </collision>
    </link>
    <!-- Joint: body, body_face_top_9 -->
    <joint name="body_body_face_top_9_joint" type="fixed">
        <parent link="body"/>
        <child link="body_face_top_9"/>
        <origin xyz="0.33333333333333337 0.0 0.501"
                rpy="0 0 0"/>
        <axis xyz="0 0 1"/>
        
    </joint>


    <!-- body_face_top_10 -->
    <link name="body_face_top_10">
        <inertial>
            <origin xyz="0 0 0" rpy="0 0 0"/>
            <mass value="0"/>
            <inertia ixx="0.05" ixy="0.05" ixz="0.05" iyy="0.05" iyz="0.05" izz="0.05"/>
        </inertial>
        <visual>
            <origin xyz="0 0 0" rpy="0 0 0"/>
            <geometry>
                <box size="0.1111111111111111 0.1111111111111111 0.002"/>
            </geometry>
        </visual>
        <collision>
            <origin xyz="0 0 0" rpy="0 0 0"/>
            <geometry>
                <box size="0.1111111111111111 0.1111111111111111 0.002"/>
            </geometry>
        </collision>
    </link>
    <!-- Joint: body, body_face_top_10 -->
    <joint name="body_body_face_top_10_joint" type="fixed">
        <parent link="body"/>
        <child link="body_face_top_10"/>
        <origin xyz="0.11111111111111116 0.11111111111111116 0.501"
                rpy="0 0 0"/>
        <axis xyz="0 0 1"/>
        
    </joint>


    <!-- body_face_top_11 -->
    <link name="body_face_top_11">
        <inertial>
            <origin xyz="0 0 0" rpy="0 0 0"/>
            <mass value="0"/>
            <inertia ixx="0.05" ixy="0.05" ixz="0.05" iyy="0.05" iyz="0.05" izz="0.05"/>
        </inertial>
        <visual>
            <origin xyz="0 0 0" rpy="0 0 0"/>
            <geometry>
                <box size="0.1111111111111111 0.1111111111111111 0.002"/>
            </geometry>
        </visual>
        <collision>
            <origin xyz="0 0 0" rpy="0 0 0"/>
            <geometry>
                <box size="0.1111111111111111 0.1111111111111111 0.002"/>
            </geometry>
        </collision>
    </link>
    <!-- Joint: body, body_face_top_11 -->
    <joint name="body_body_face_top_11_joint" type="fixed">
        <parent link="body"/>
        <child link="body_face_top_11"/>
        <origin xyz="0.2222222222222222 0.11111111111111116 0.501"
                rpy="0 0 0"/>
        <axis xyz="0 0 1"/>
        
    </joint>


    <!-- body_face_top_12 -->
    <link name="body_face_top_12">
        <inertial>
            <origin xyz="0 0 0" rpy="0 0 0"/>
            <mass value="0"/>
            <inertia ixx="0.05" ixy="0.05" ixz="0.05" iyy="0.05" iyz="0.05" izz="0.05"/>
        </inertial>
        <visual>
            <origin xyz="0 0 0" rpy="0 0 0"/>
            <geometry>
                <box size="0.1111111111111111 0.1111111111111111 0.002"/>
            </geometry>
        </visual>
        <collision>
            <origin xyz="0 0 0" rpy="0 0 0"/>
            <geometry>
                <box size="0.1111111111111111 0.1111111111111111 0.002"/>
            </geometry>
        </collision>
    </link>
    <!-- Joint: body, body_face_top_12 -->
    <joint name="body_body_face_top_12_joint" type="fixed">
        <parent link="body"/>
        <child link="body_face_top_12"/>
        <origin xyz="0.11111111111111116 0.2222222222222222 0.501"
                rpy="0 0 0"/>
        <axis xyz="0 0 1"/>
        
    </joint>


</robot>
